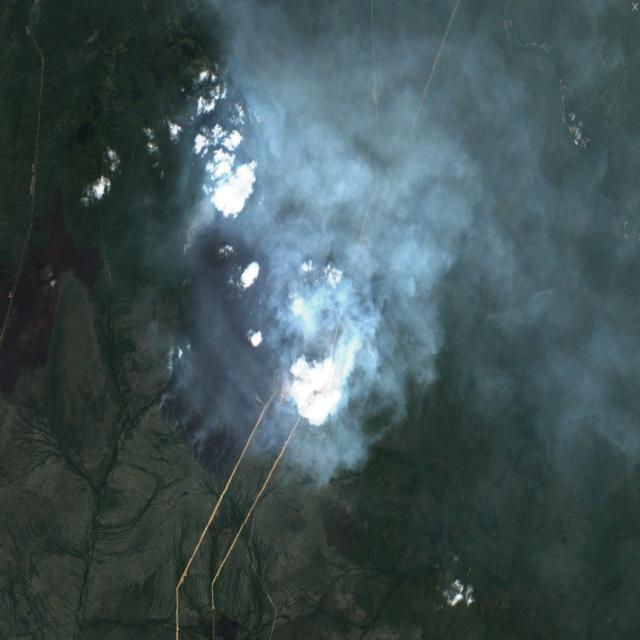fire: (166, 165, 318, 482)
